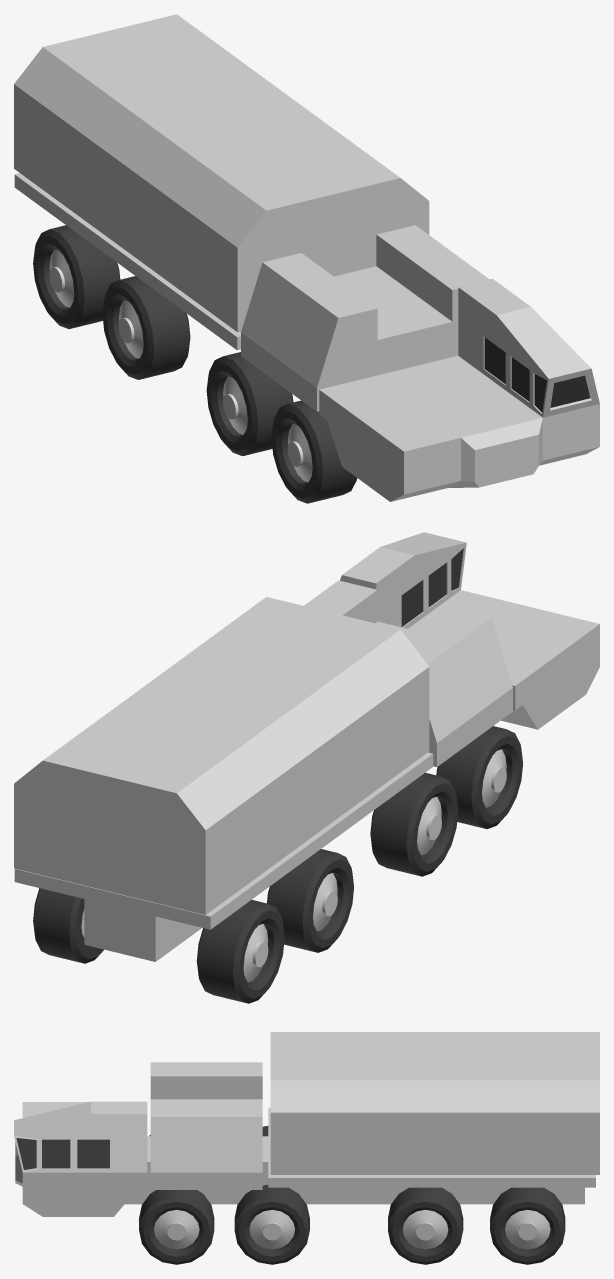
File: TestTruck.fbx
3 renders of one model, top to bottom at view 1: azimuth 30°, elevation 25°; view 2: azimuth 150°, elevation 25°; view 3: azimuth 270°, elevation 25°, orthographic. The views are drawn at different scales.
Visible parts, largest first — view 1: Truck, 立方体.012, 柱体.002, 柱体.004, 立方体.008; view 2: Truck, 立方体.012, 柱体.002, 柱体.004, 立方体.008; view 3: Truck, 立方体.012, 柱体.002, 柱体.004, 立方体.008.
Part boxes in pixels (x1=…): Truck: x1=14, y1=14, x2=429, y2=332; 立方体.012: x1=14, y1=173, x2=599, y2=501; 柱体.002: x1=33, y1=225, x2=357, y2=503; 柱体.004: x1=49, y1=249, x2=312, y2=482; 立方体.008: x1=484, y1=337, x2=590, y2=412; Truck: x1=14, y1=597, x2=429, y2=914; 立方体.012: x1=14, y1=532, x2=599, y2=961; 柱体.002: x1=33, y1=726, x2=522, y2=1003; 柱体.004: x1=81, y1=749, x2=506, y2=982; 立方体.008: x1=401, y1=548, x2=463, y2=626; Truck: x1=270, y1=1032, x2=599, y2=1174; 立方体.012: x1=14, y1=1062, x2=595, y2=1216; 柱体.002: x1=139, y1=1126, x2=565, y2=1264; 柱体.004: x1=154, y1=1210, x2=550, y2=1249; 立方体.008: x1=16, y1=1138, x2=109, y2=1169.
Size of the model in its own units: 564 by 614 by 1886.
2 materials, 1 textured.
